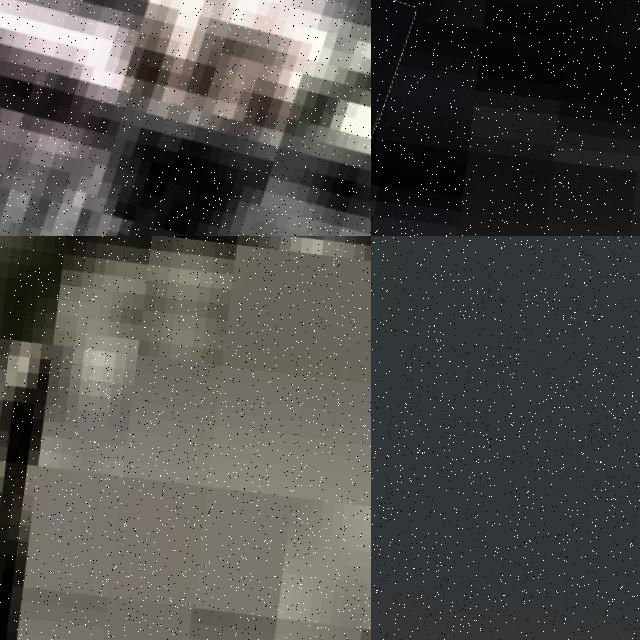drone: (0, 0, 371, 236)
